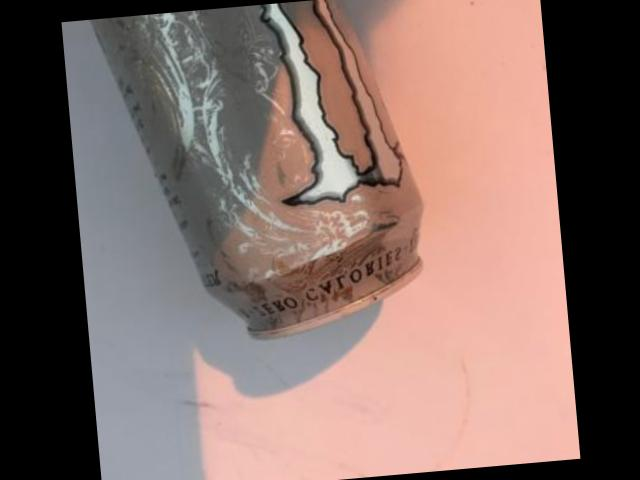metal: (91, 0, 423, 339)
